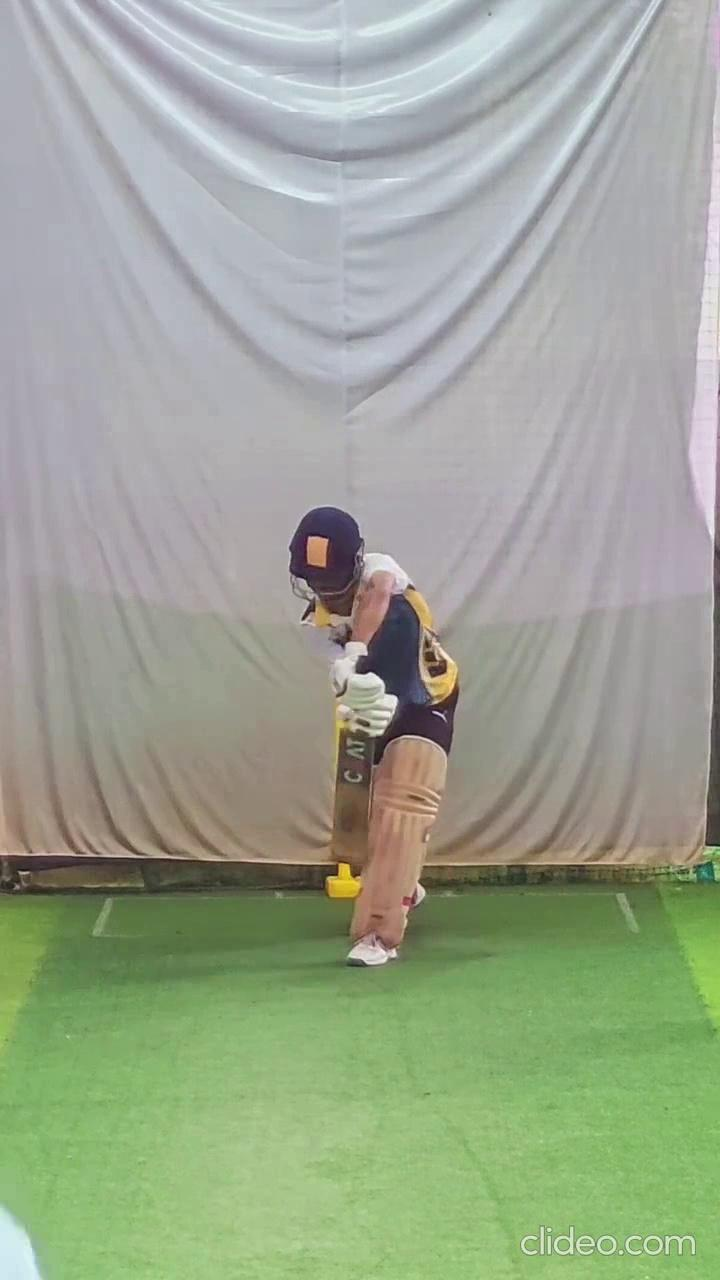bat: (328, 727, 376, 868)
